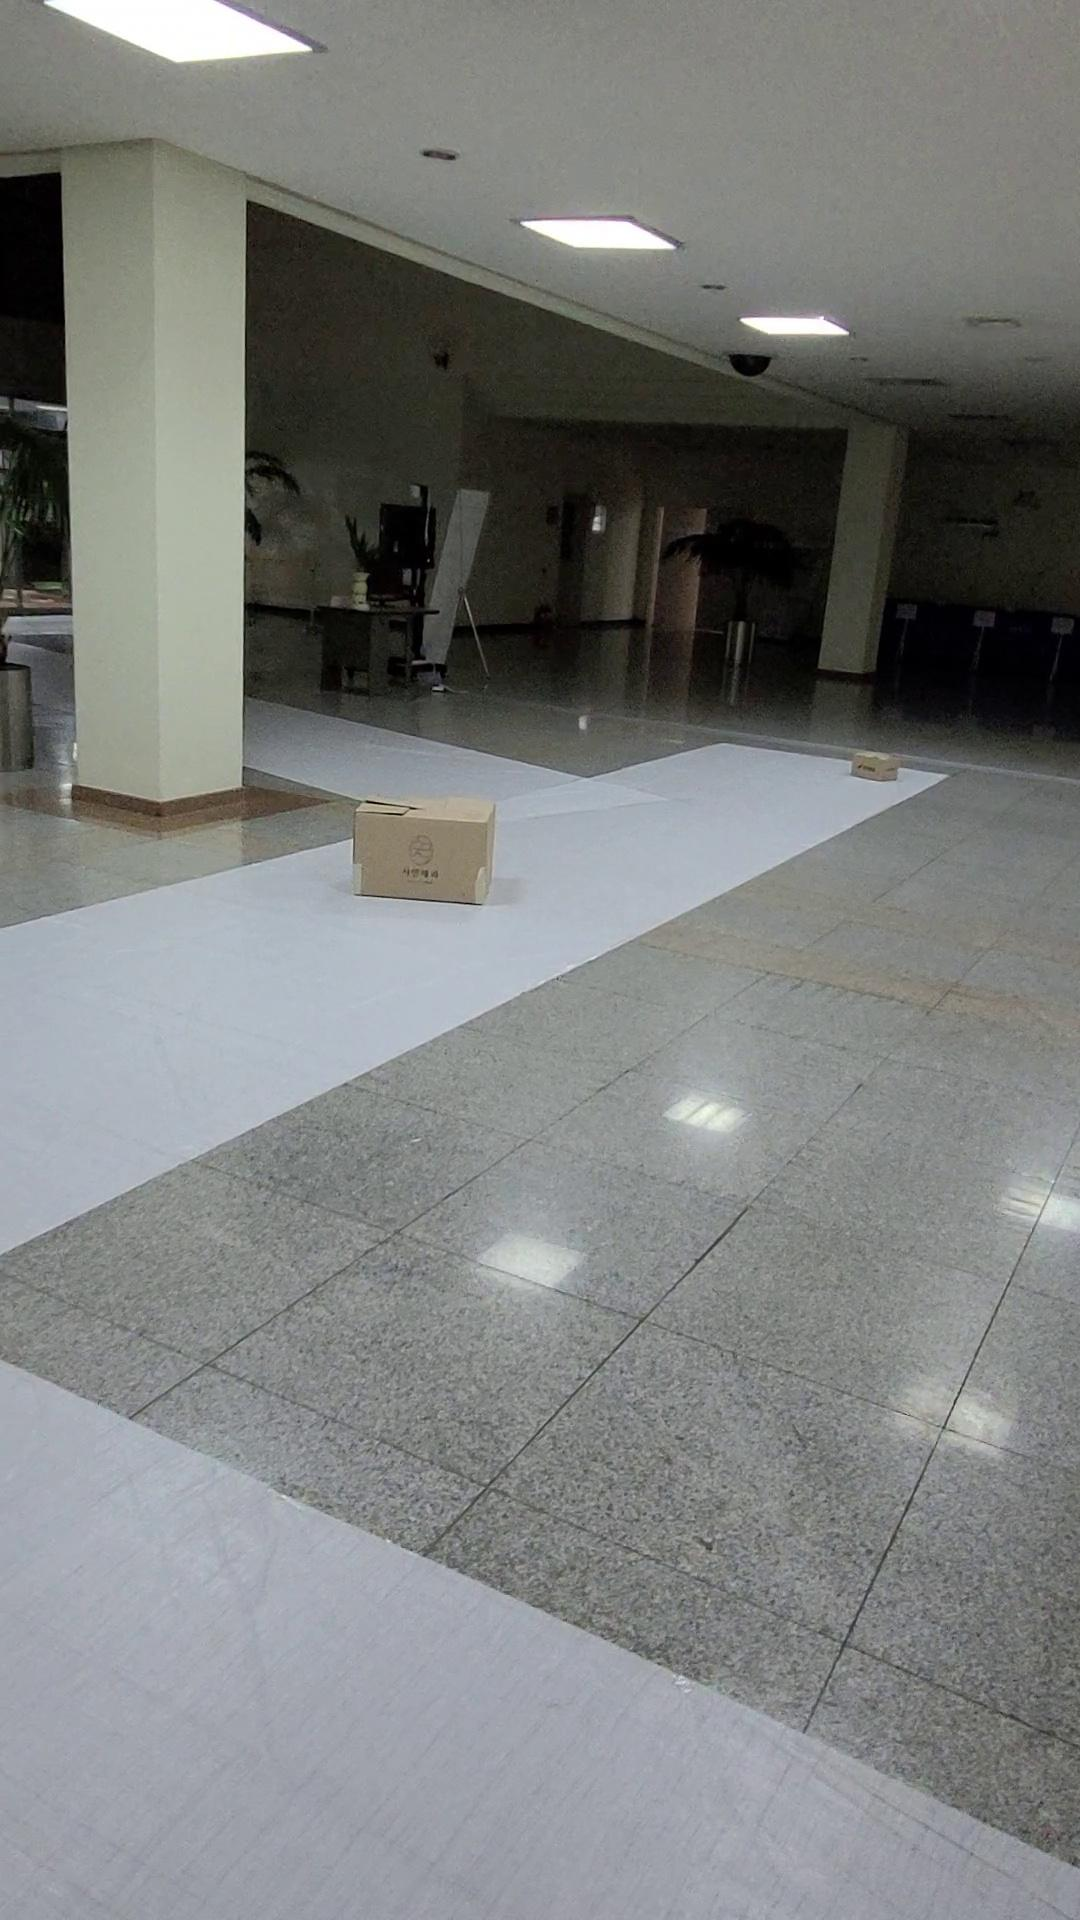Box: (353, 790, 497, 905), (858, 748, 894, 781)
